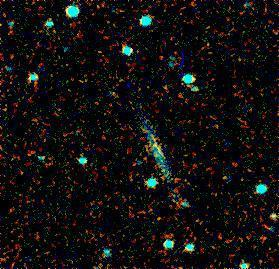star: (108, 69, 138, 99)
